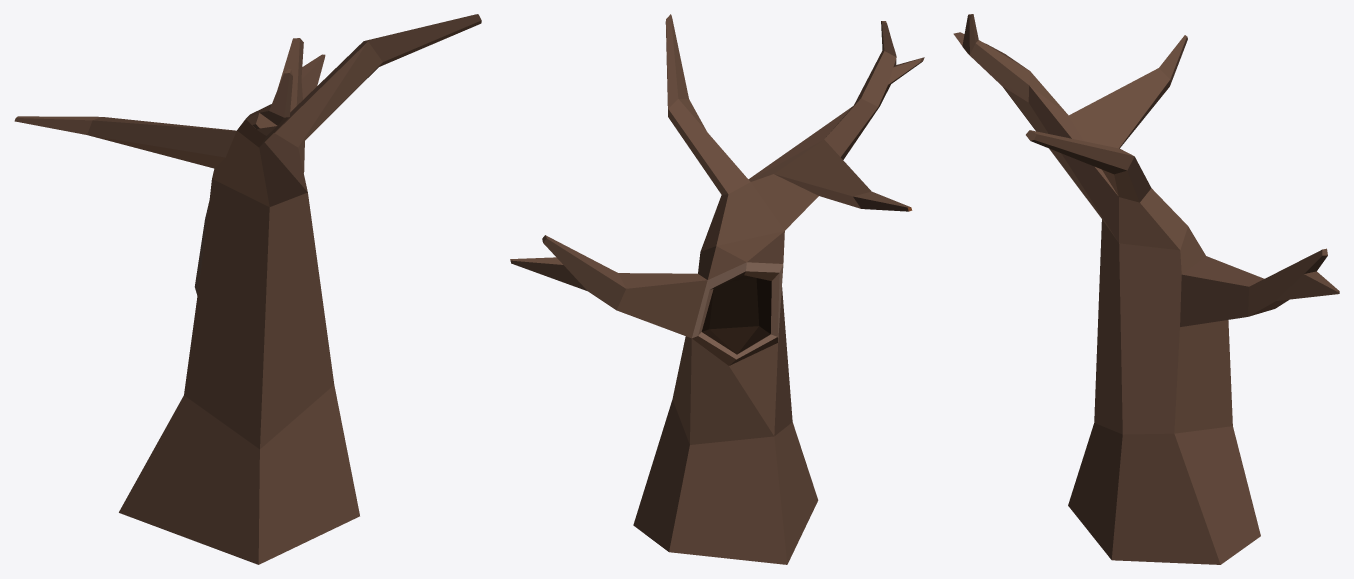
File: TreeAutumn9.fbx
3 renders of one model, left to right at view 1: azimuth 30°, elevation 25°; view 2: azimuth 150°, elevation 25°; view 3: azimuth 270°, elevation 25°, orthographic. The views are drawn at different scales.
Parts seen in each view (by area): view 1: TreeAutumn9; view 2: TreeAutumn9; view 3: TreeAutumn9.
Boxes of the visible parts, left/top/right/bottom form: TreeAutumn9: left=14, top=14, right=481, bottom=564; TreeAutumn9: left=510, top=14, right=924, bottom=564; TreeAutumn9: left=953, top=14, right=1339, bottom=564.
Bounding box in the file's own units: 1.2 × 1.57 × 1.14.
